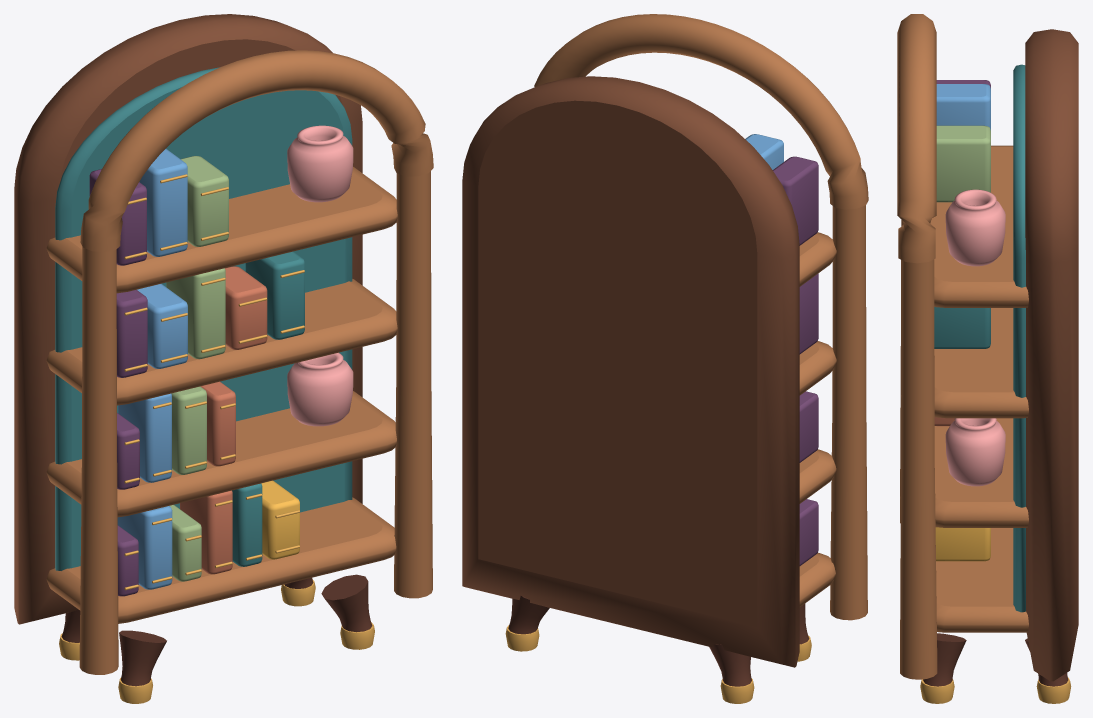
File: atelier_arch_shelf.glb
The picture shows the model from 3 angles, left to right: view 1: azimuth 30°, elevation 25°; view 2: azimuth 150°, elevation 25°; view 3: azimuth 270°, elevation 25°; orthographic projection. The views are drawn at different scales.
Parts seen in each view (by area): view 1: Biblioteca con arco; view 2: Biblioteca con arco; view 3: Biblioteca con arco.
Boxes of the visible parts, box(x1,y1,x2,y2) form: Biblioteca con arco: box(14, 14, 433, 703); Biblioteca con arco: box(462, 14, 868, 703); Biblioteca con arco: box(897, 14, 1078, 703).
Size of the model in its own units: 0.984 by 1.67 by 0.4515.
